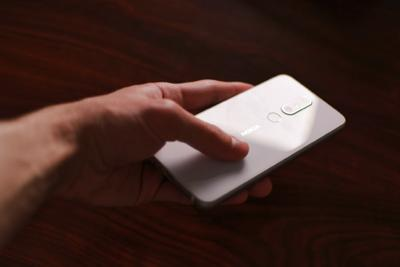Mobile Phone: (147, 72, 346, 210)
